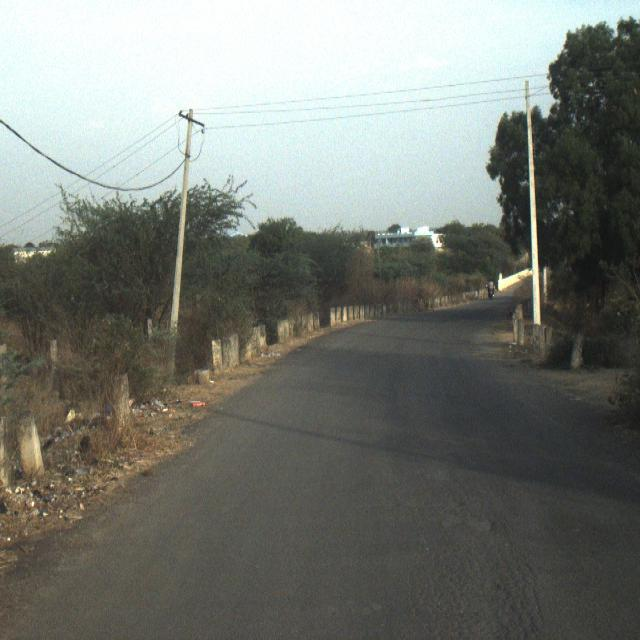Pothole: (451, 497, 497, 542)
